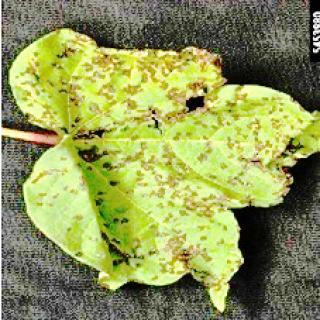blight: (32, 32, 278, 260)
